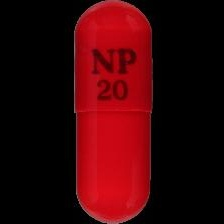42254-062: (0, 0, 224, 224)
